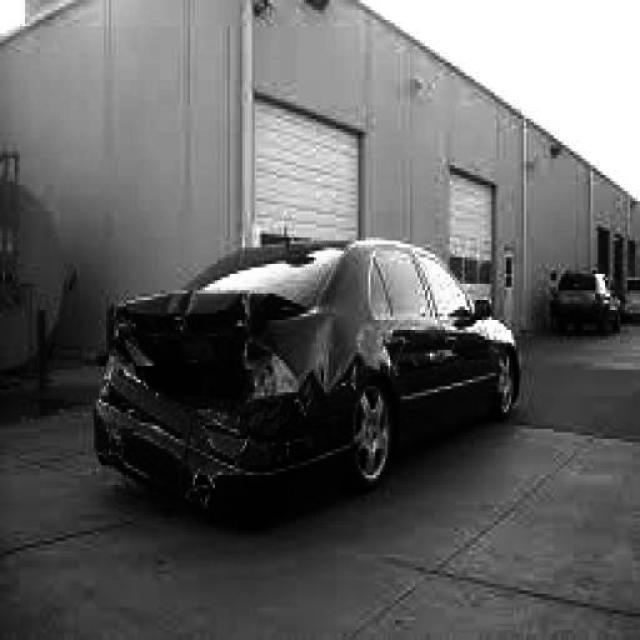car damage: (91, 291, 358, 515)
